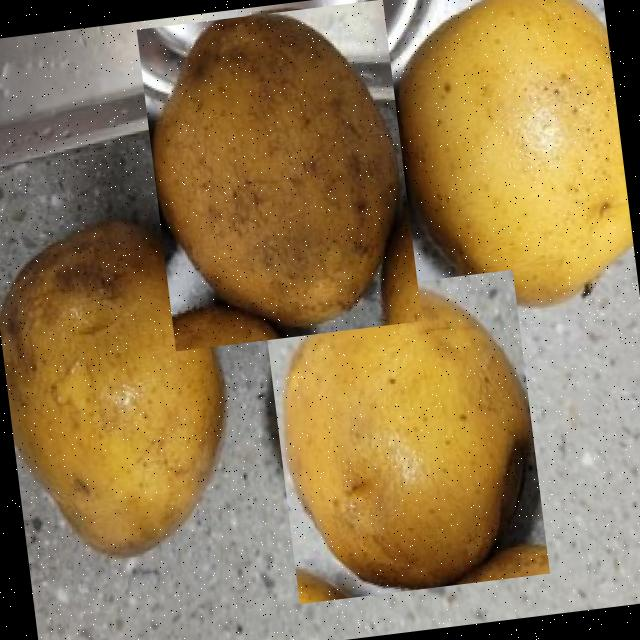Damaged potato: (135, 0, 421, 350)
Potato: (261, 268, 548, 602), (0, 213, 250, 573), (378, 0, 640, 330)
